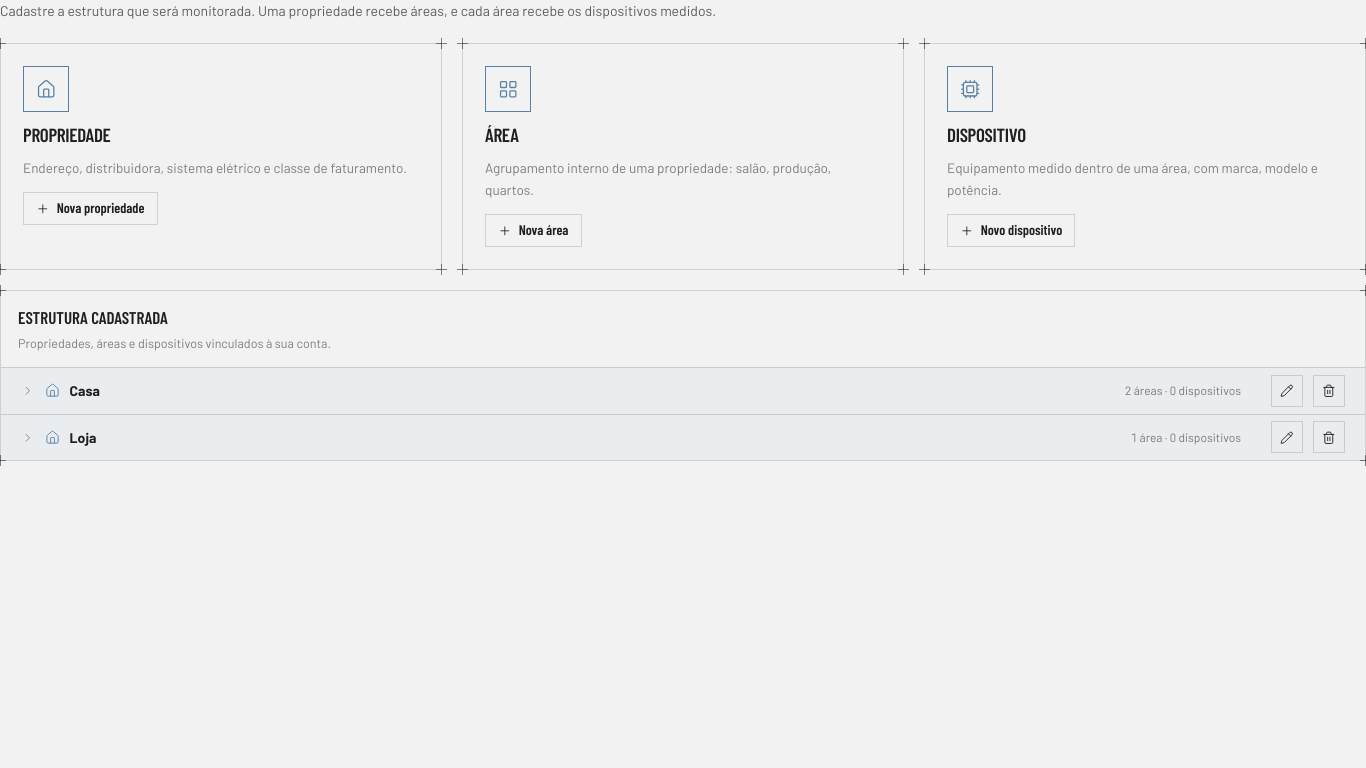
RegistrationPage — com propriedades cadastradas › abre o modal de dispositivo com as áreas da árvore, sem buscá-las de novo
Expected: the heading "Dispositivo" is shown, [947,124,1026,145]
Click the button "Novo dispositivo" at (1011, 230), box [947,214,1075,247]
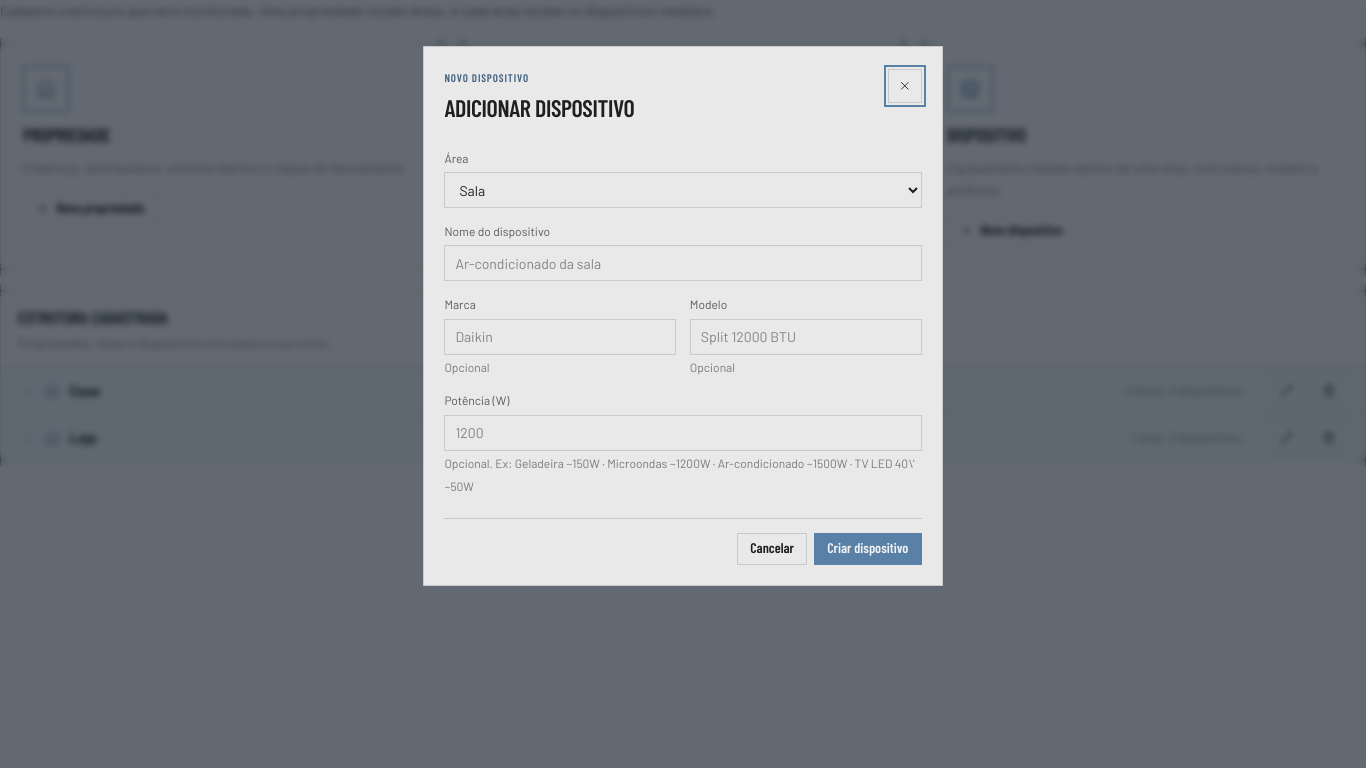
Now the dialog "Adicionar dispositivo" is shown, box [423,46,943,586]
Now the dropdown labelled "Área" shows "Sala", box [444,172,922,208]
